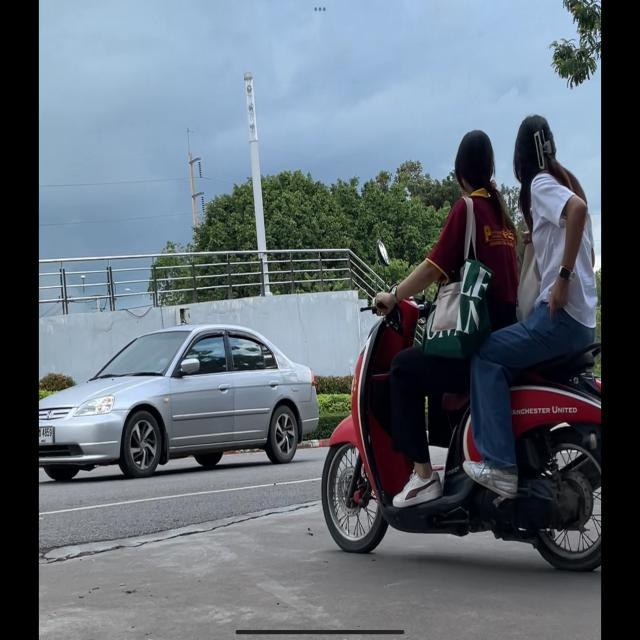seatbelt: (512, 111, 558, 184), (453, 128, 497, 197)
